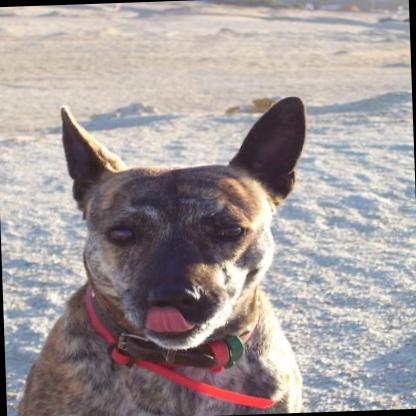kelpie: (0, 94, 318, 416)
